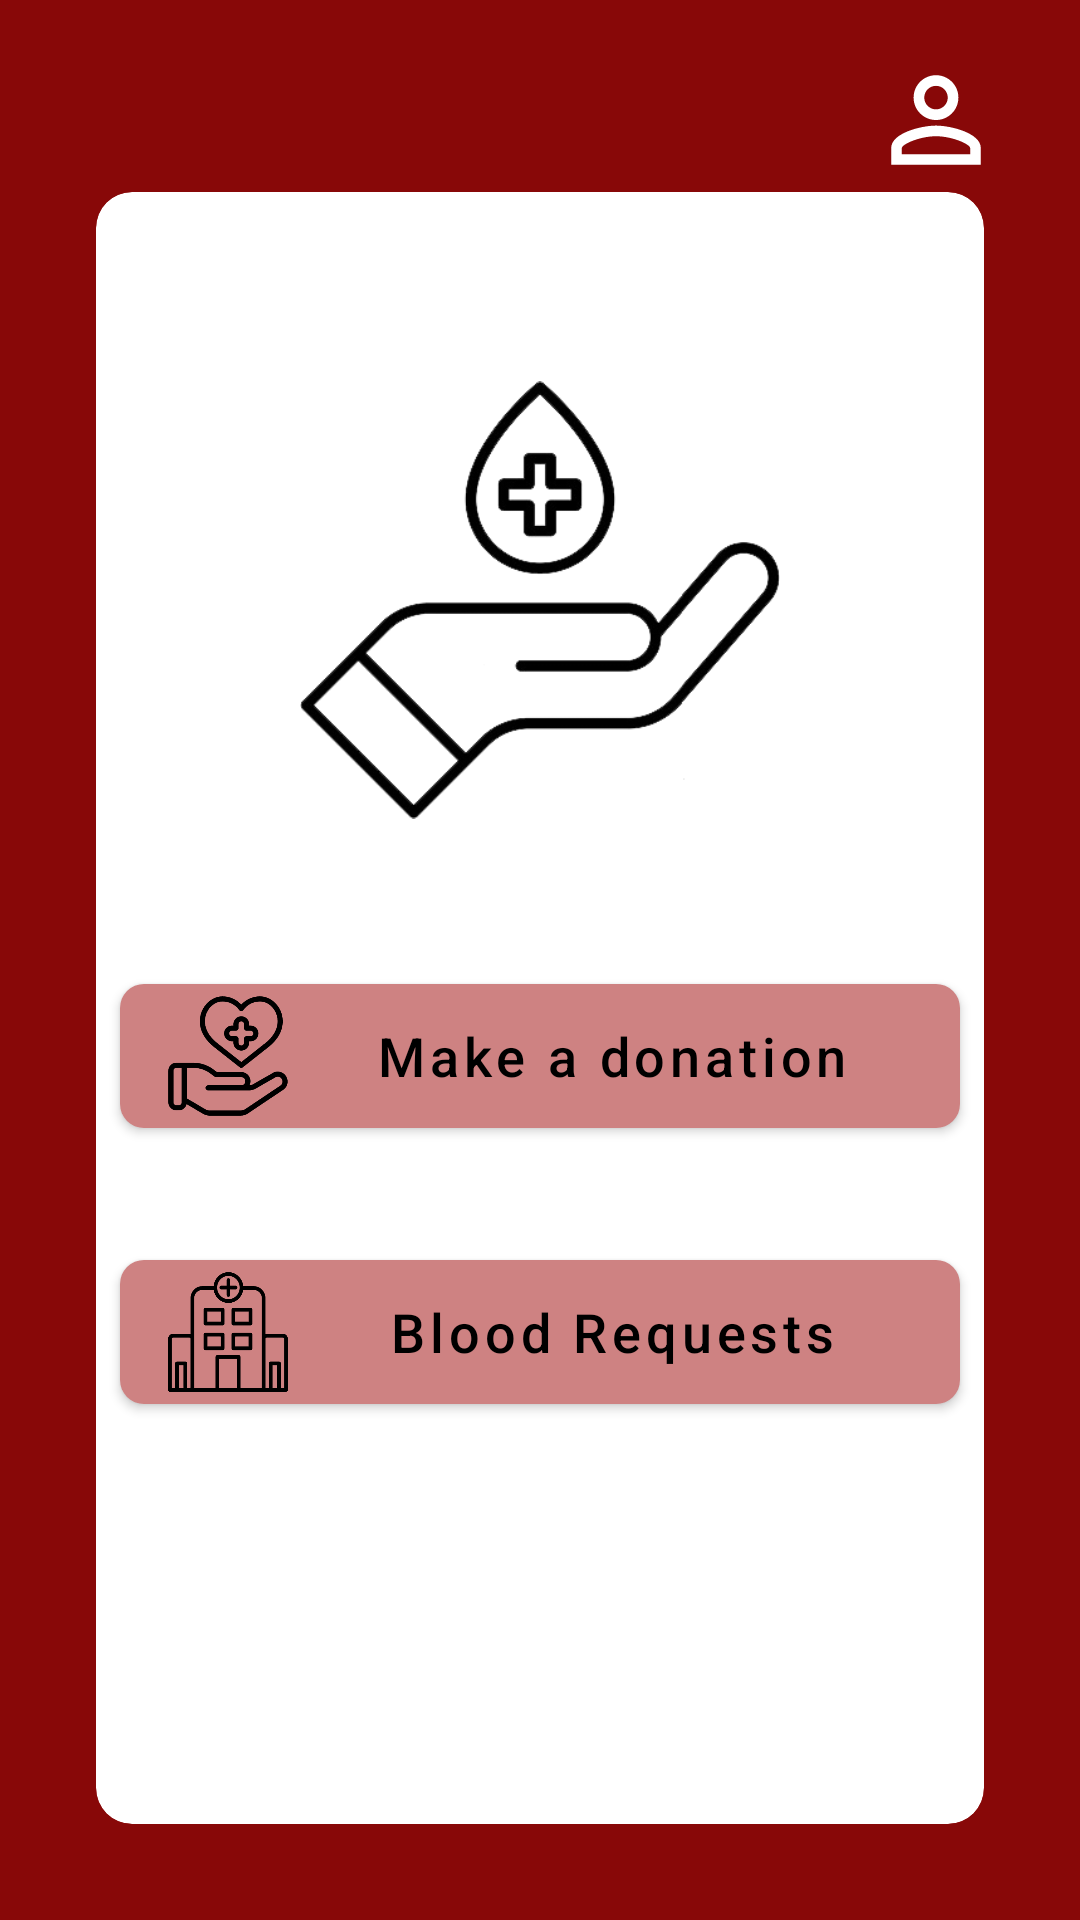

Icon bounding boxes for this 1080px×1920px phone screenshot, format (x1=x1, y1=y1, x2=x2, y2=y2):
profile: (x1=891, y1=75, x2=981, y2=165)
